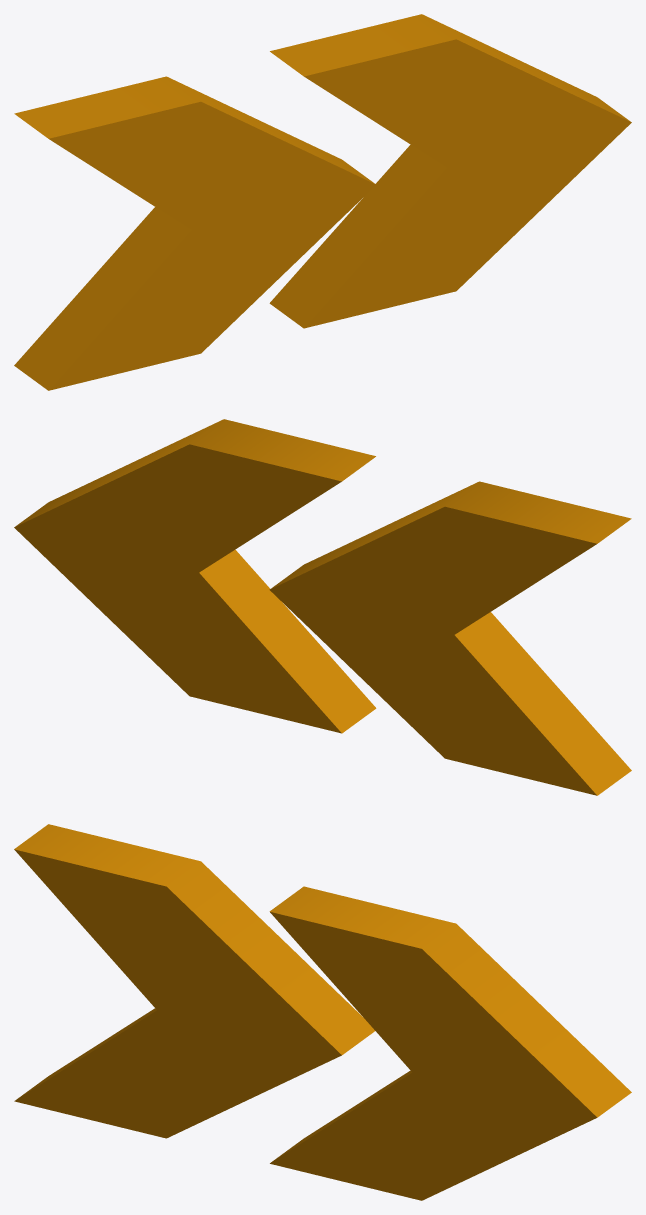
Rendered from jump_arrow.fbx.
The picture shows the model from 3 angles, top to bottom: view 1: azimuth 30°, elevation 25°; view 2: azimuth 150°, elevation 25°; view 3: azimuth 330°, elevation 25°; orthographic projection.
Visible parts, largest first — view 1: arrow1_1, arrow1; view 2: arrow1_1, arrow1; view 3: arrow1, arrow1_1.
Boxes of the visible parts, bbox=[...] form: arrow1_1: bbox=[14, 76, 376, 390]; arrow1: bbox=[269, 14, 631, 328]; arrow1_1: bbox=[269, 481, 631, 795]; arrow1: bbox=[14, 419, 376, 733]; arrow1: bbox=[269, 886, 631, 1200]; arrow1_1: bbox=[14, 824, 374, 1138].
Bounding box in the file's own units: 138 × 56.97 × 14.13.
